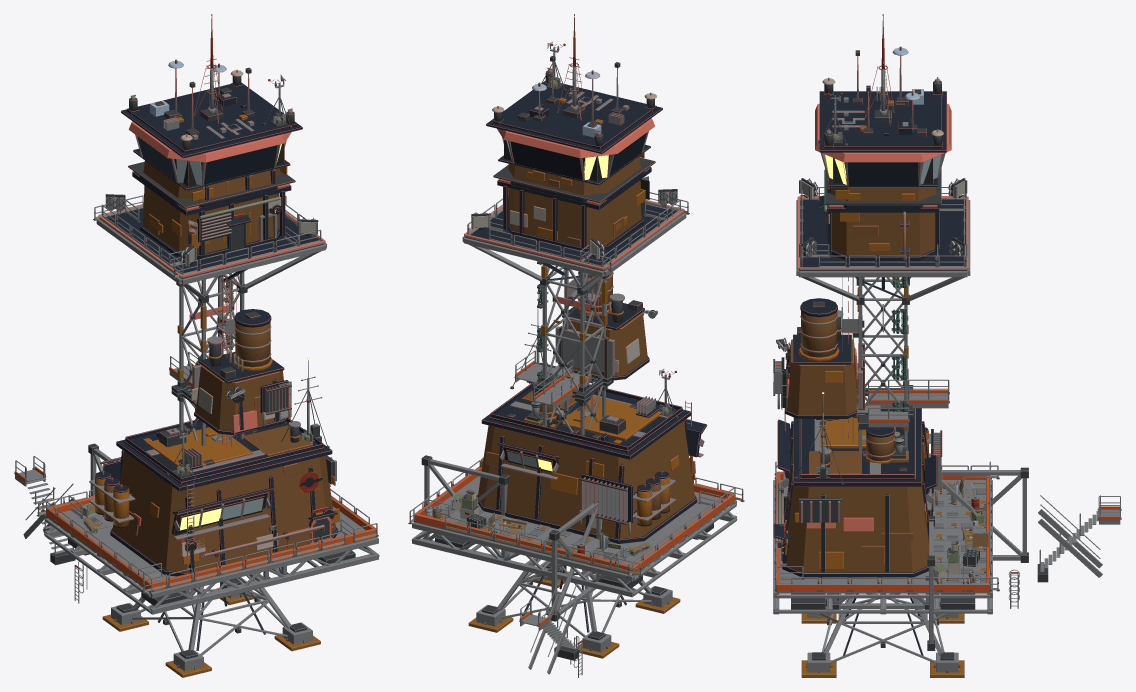
Rendered from lattice_outpost.fbx.
The picture shows the model from 3 angles, left to right: view 1: azimuth 30°, elevation 25°; view 2: azimuth 150°, elevation 25°; view 3: azimuth 270°, elevation 25°; orthographic projection. The views are drawn at different scales.
Parts seen in each view (by area): view 1: Block_Station, Cab_Wide, Deck_Lower, Block_Plant, Cab_Annex, Mast_Collar_Upper, Mast_Splay, Mast_Bay_Upper, Aerial_Farm, Stair_Lower, Ladder_Run, Roof_Antenna (+1 smaller); view 2: Block_Station, Cab_Wide, Deck_Lower, Cab_Annex, Mast_Collar_Upper, Block_Plant, Mast_Splay, Mast_Bay_Upper, Aerial_Farm, Stair_Lower, Mast_DeckBrace_3, Mast_DeckBrace_2 (+4 smaller); view 3: Block_Station, Cab_Wide, Deck_Lower, Block_Plant, Mast_Collar_Upper, Cab_Annex, Mast_Splay, Mast_Bay_Upper, Stair_Lower, Aerial_Farm, Mast_DeckBrace_3, Plant_Catwalk (+5 smaller).
Boxes of the visible parts, x1,y1,x2,y2 form: Block_Station: [89, 418, 340, 576]; Cab_Wide: [121, 69, 302, 208]; Deck_Lower: [44, 496, 379, 614]; Block_Plant: [191, 309, 291, 435]; Cab_Annex: [132, 171, 291, 259]; Mast_Collar_Upper: [96, 204, 326, 303]; Mast_Splay: [102, 575, 320, 677]; Mast_Bay_Upper: [171, 272, 244, 406]; Aerial_Farm: [150, 14, 254, 138]; Stair_Lower: [14, 456, 75, 565]; Ladder_Run: [216, 273, 243, 447]; Roof_Antenna: [280, 357, 329, 448]; Block_Station: [476, 377, 707, 543]; Cab_Wide: [486, 67, 662, 203]; Deck_Lower: [411, 467, 737, 597]; Cab_Annex: [497, 167, 651, 251]; Mast_Collar_Upper: [462, 199, 686, 294]; Block_Plant: [555, 271, 649, 380]; Mast_Splay: [468, 559, 680, 658]; Mast_Bay_Upper: [535, 264, 611, 399]; Aerial_Farm: [518, 14, 623, 137]; Stair_Lower: [519, 580, 578, 674]; Mast_DeckBrace_3: [549, 500, 601, 621]; Mast_DeckBrace_2: [421, 455, 508, 558]; Block_Station: [773, 403, 942, 577]; Cab_Wide: [815, 77, 951, 208]; Deck_Lower: [773, 472, 992, 614]; Block_Plant: [773, 298, 864, 418]; Mast_Collar_Upper: [796, 196, 970, 304]; Cab_Annex: [819, 170, 939, 260]; Mast_Splay: [801, 593, 964, 677]; Mast_Bay_Upper: [857, 277, 913, 413]; Stair_Lower: [1037, 495, 1121, 582]; Aerial_Farm: [832, 14, 926, 137]; Mast_DeckBrace_3: [931, 467, 1028, 562]; Plant_Catwalk: [867, 379, 949, 408].
Size of the model in its own units: 2235 by 5200 by 2610.
